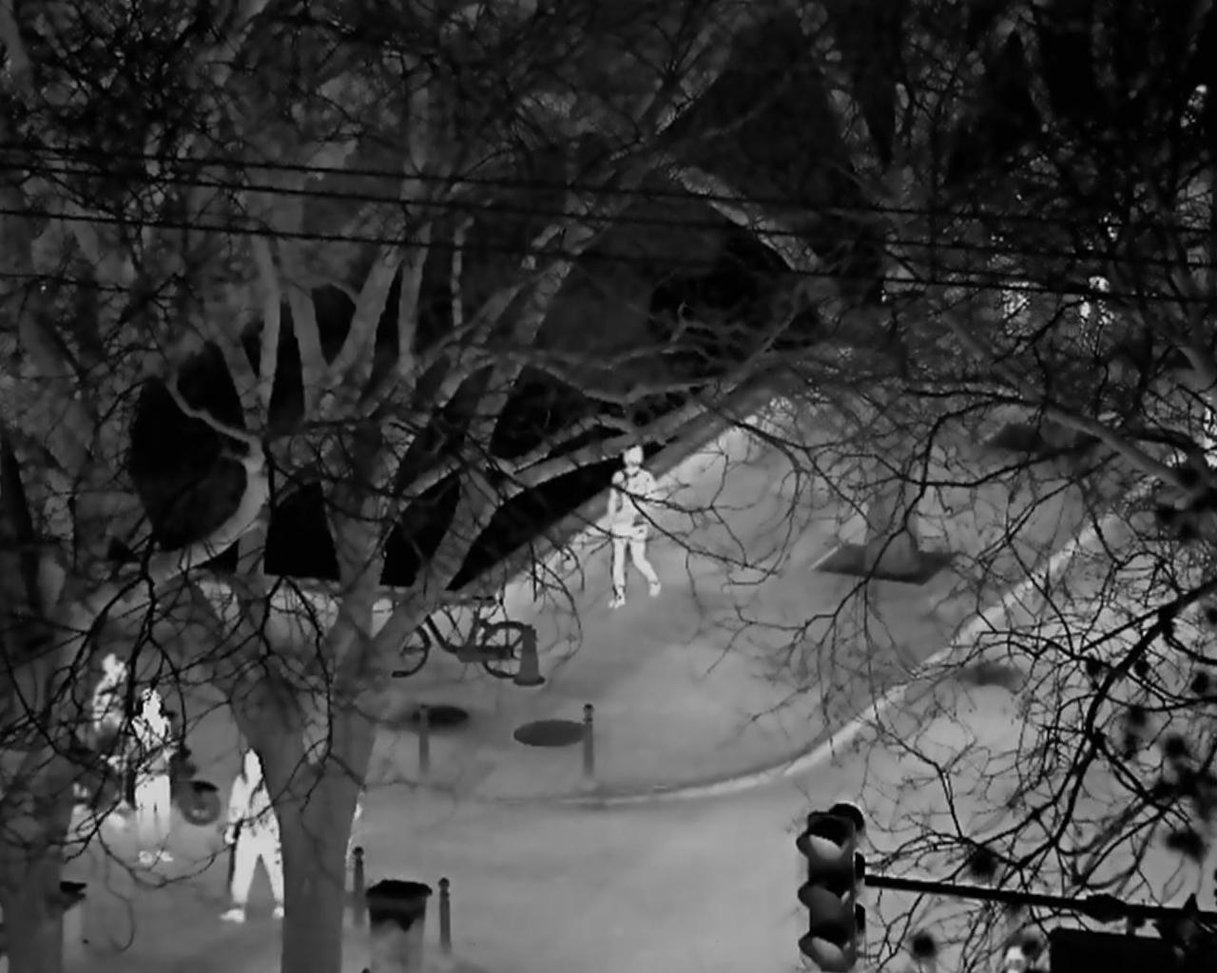person: (221, 746, 287, 921), (607, 443, 662, 607), (128, 689, 177, 866)
